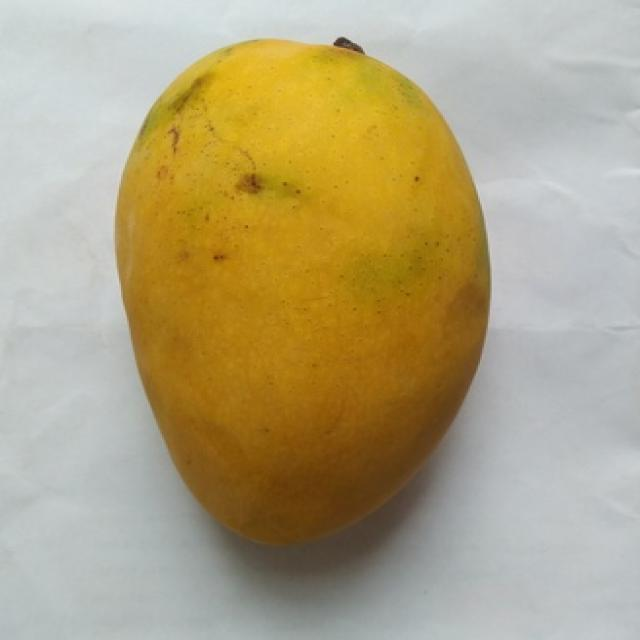Mango: (117, 41, 488, 543)
